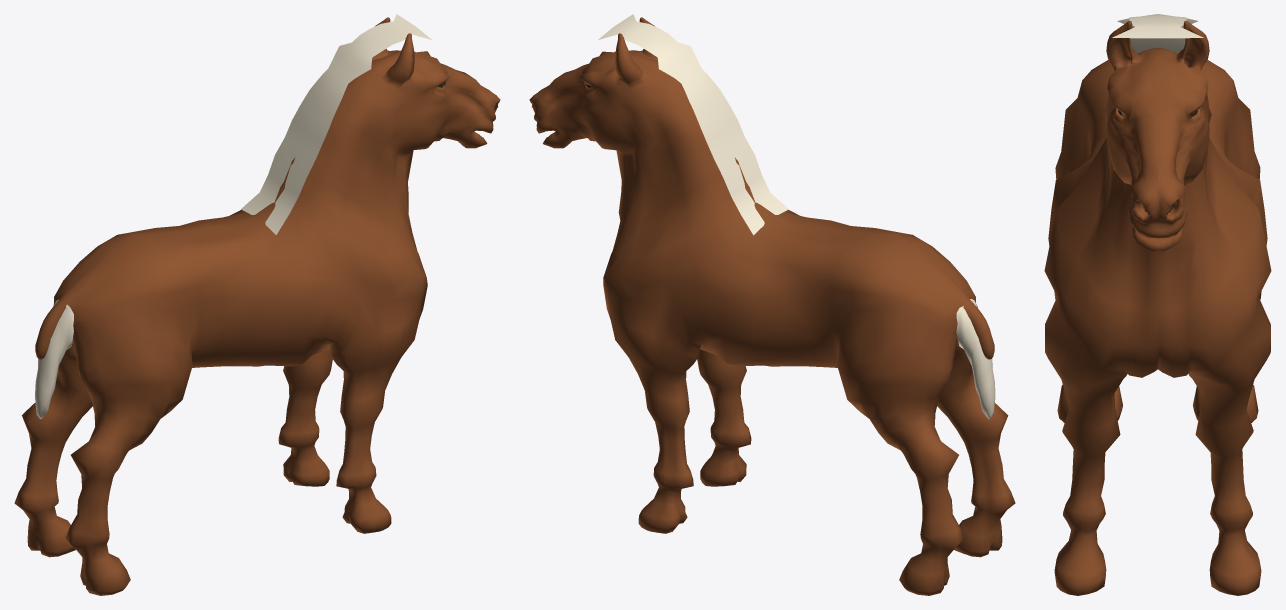
The model's file is horse.glb.
3 views of the same model, side by side, from view 1: azimuth 30°, elevation 25°; view 2: azimuth 150°, elevation 25°; view 3: azimuth 270°, elevation 25° (orthographic). The views are drawn at different scales.
Parts seen in each view (by area): view 1: Horse_Body, Horse_Mane, Horse_Tail; view 2: Horse_Body, Horse_Mane, Horse_Tail; view 3: Horse_Body, Horse_Mane.
Part boxes in pixels (x1,y1,x2,y2): Horse_Body: [14, 17, 500, 595]; Horse_Mane: [241, 14, 431, 234]; Horse_Tail: [35, 299, 73, 418]; Horse_Body: [529, 17, 1015, 595]; Horse_Mane: [598, 14, 788, 235]; Horse_Tail: [956, 299, 995, 419]; Horse_Body: [1044, 20, 1271, 595]; Horse_Mane: [1112, 14, 1203, 53].
Bounding box in the file's own units: 0.9 × 0.8736 × 0.2977.
